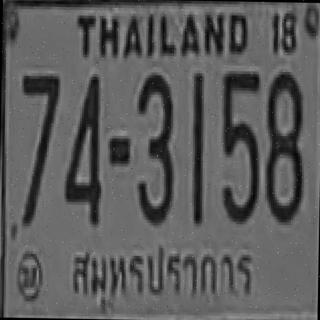N01: (190, 72, 204, 205)
N03: (135, 74, 174, 222)
N04: (62, 72, 101, 223)
N05: (219, 68, 260, 222)
N07: (19, 73, 59, 199), (19, 73, 59, 176), (20, 73, 58, 162)
N08: (263, 70, 304, 221)
P57: (66, 239, 255, 314)
